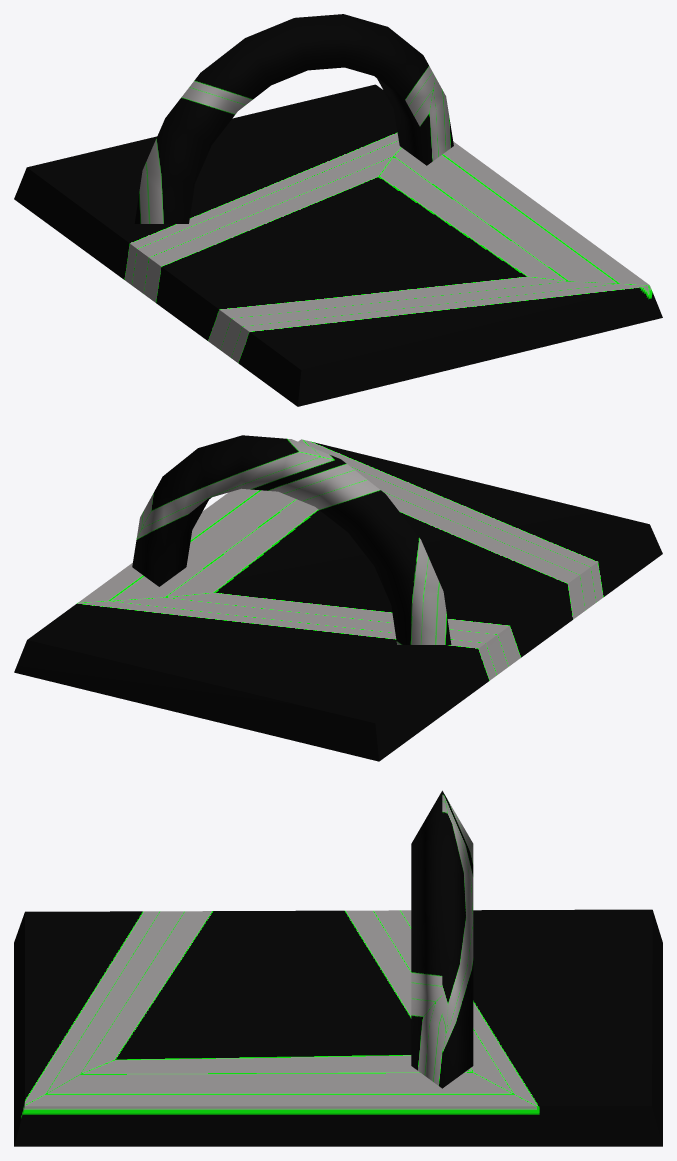
Rendered from StartGate.obj.
The picture shows the model from 3 angles, top to bottom: view 1: azimuth 30°, elevation 25°; view 2: azimuth 150°, elevation 25°; view 3: azimuth 270°, elevation 25°; orthographic projection. The views are drawn at different scales.
Visible parts, largest first — view 1: Texture; view 2: Texture; view 3: Texture.
Boxes of the visible parts, <box> form: Texture: <box>14,14,662,406</box>; Texture: <box>14,435,662,761</box>; Texture: <box>14,790,662,1146</box>.
Bounding box in the file's own units: 229 × 124 × 308.
